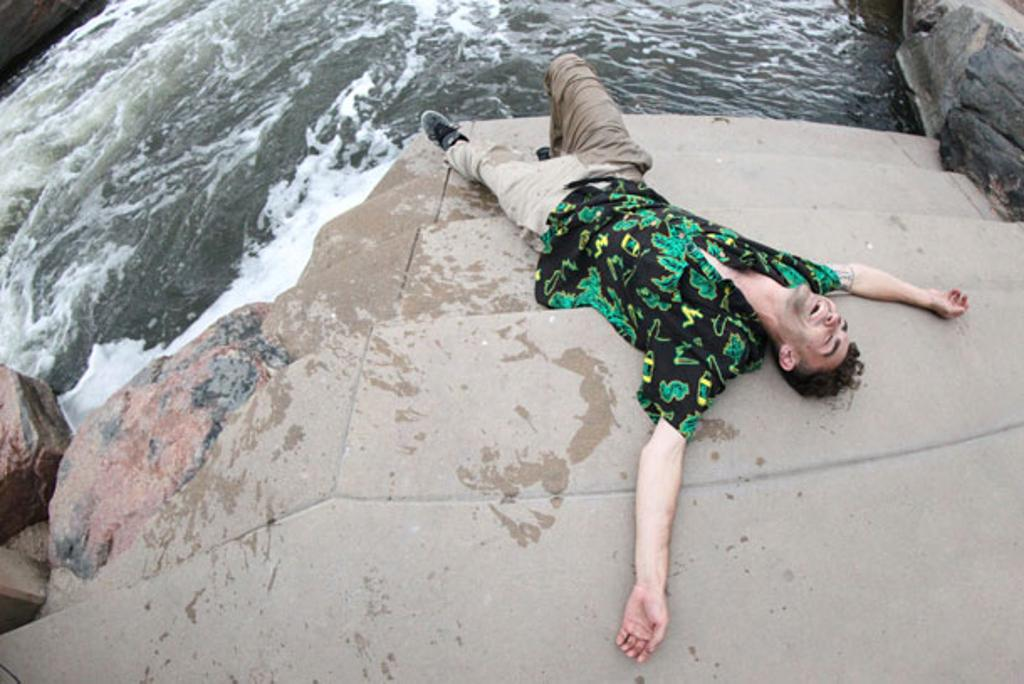face: (782, 280, 852, 370)
